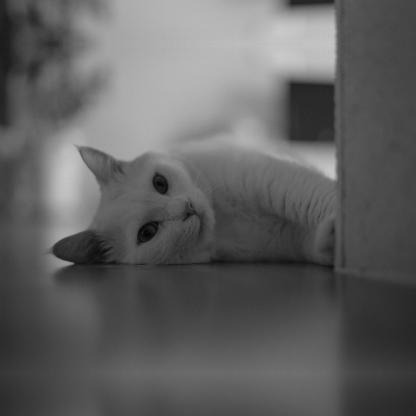Cat: (47, 144, 339, 266)
